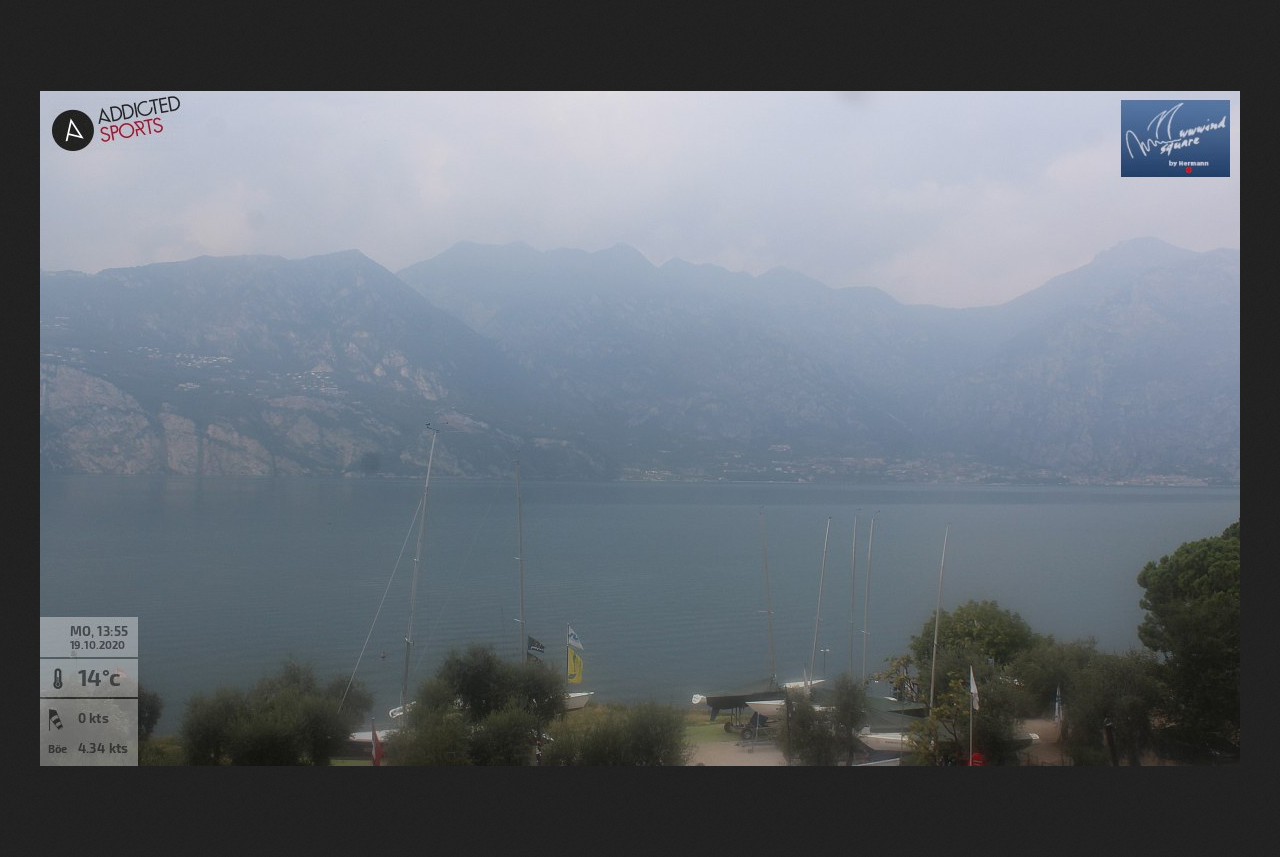maybe: (563, 623, 587, 648)
no: (963, 662, 984, 712), (365, 723, 388, 766)
